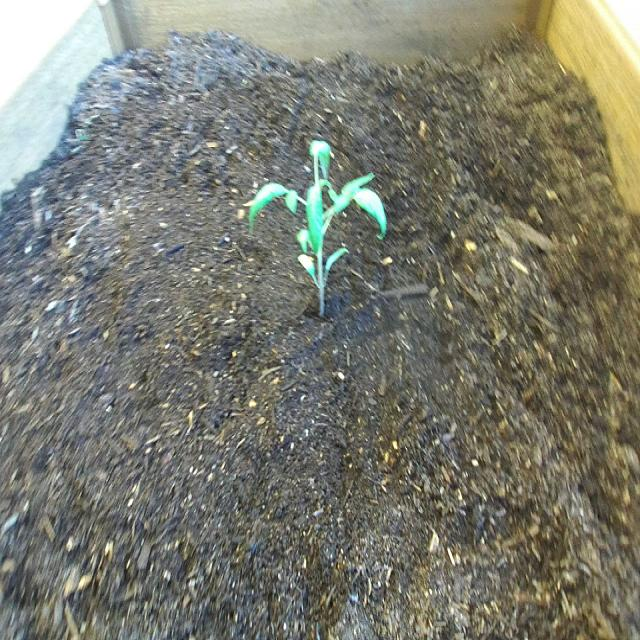Healthy: (245, 132, 390, 326)
